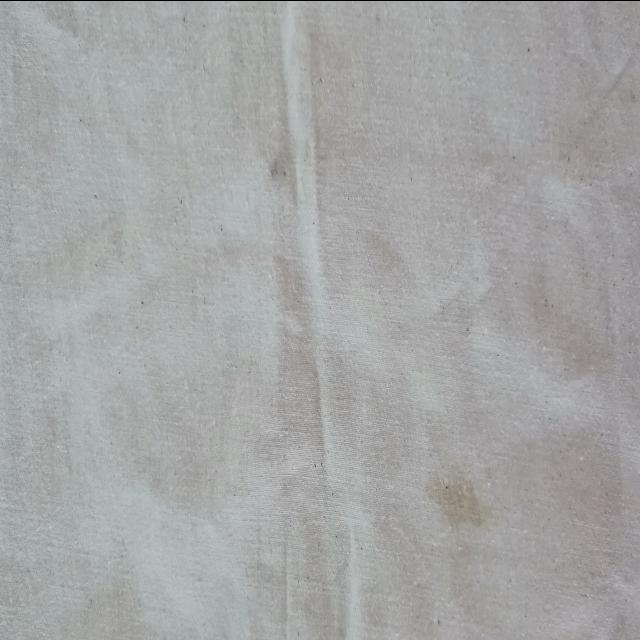taaaches: (414, 451, 494, 554), (257, 134, 313, 213)
